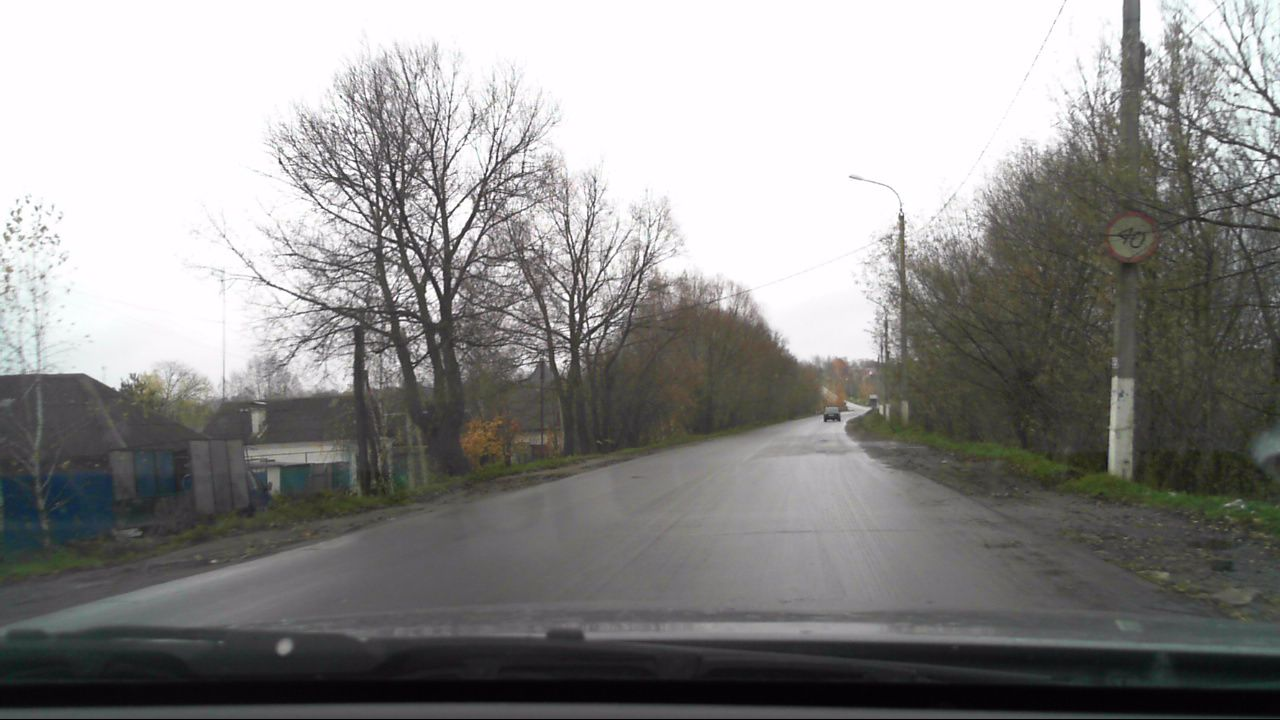speed_warning_40: (1101, 211, 1159, 266)
